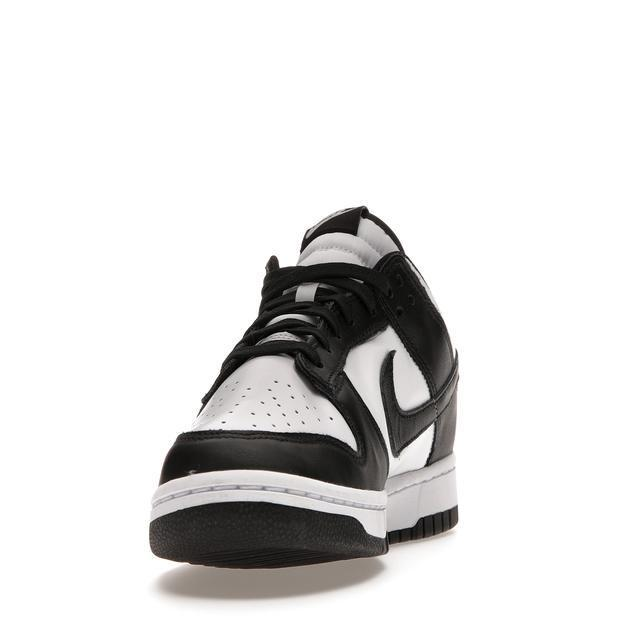J1_ShoeLogo: (147, 203, 461, 569)
J1_StitchPattern: (193, 254, 391, 452), (201, 280, 348, 408), (148, 468, 389, 539), (196, 375, 339, 432), (245, 282, 348, 354), (174, 426, 360, 458), (247, 309, 336, 347), (386, 503, 459, 544)
